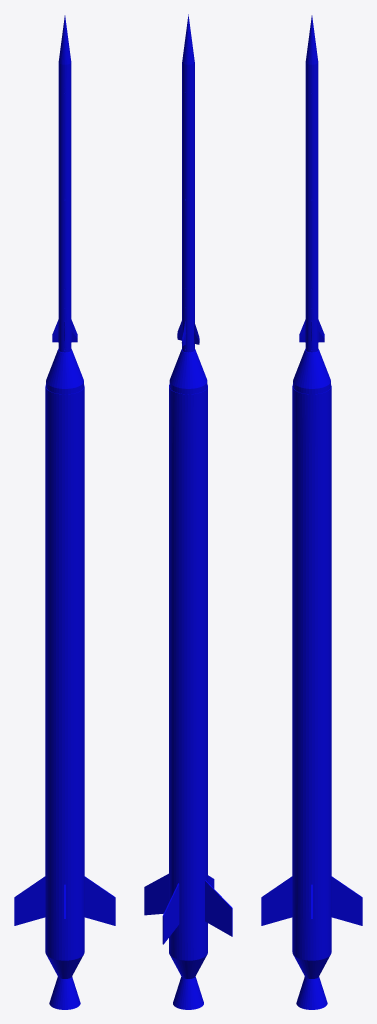
The model's file is DARTcolouredTest.gltf.
3 views of the same model, side by side, from view 1: azimuth 90°, elevation 25°; view 2: azimuth 150°, elevation 25°; view 3: azimuth 270°, elevation 25° (orthographic).
Parts seen in each view (by area): view 1: DART; view 2: DART; view 3: DART.
Boxes of the visible parts, bbox=[...] form: DART: bbox=[14, 15, 115, 1009]; DART: bbox=[144, 14, 232, 1009]; DART: bbox=[261, 15, 362, 1009].
Bounding box in the file's own units: 32.2 × 346 × 32.2.
